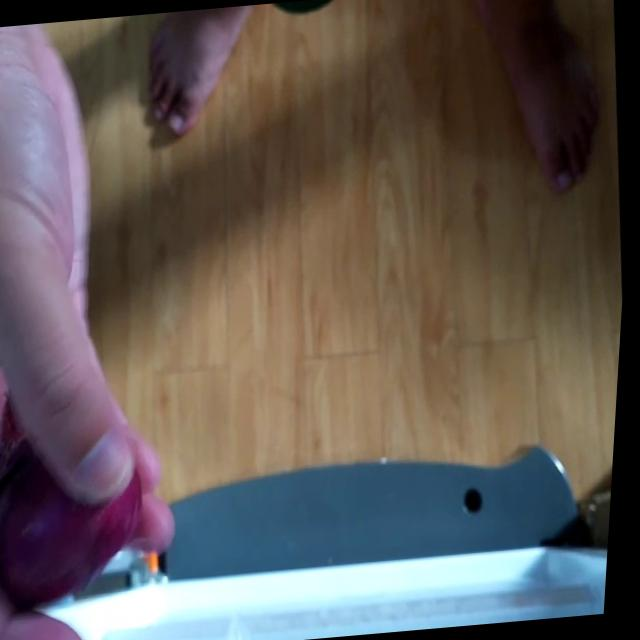onion: (0, 423, 160, 618)
